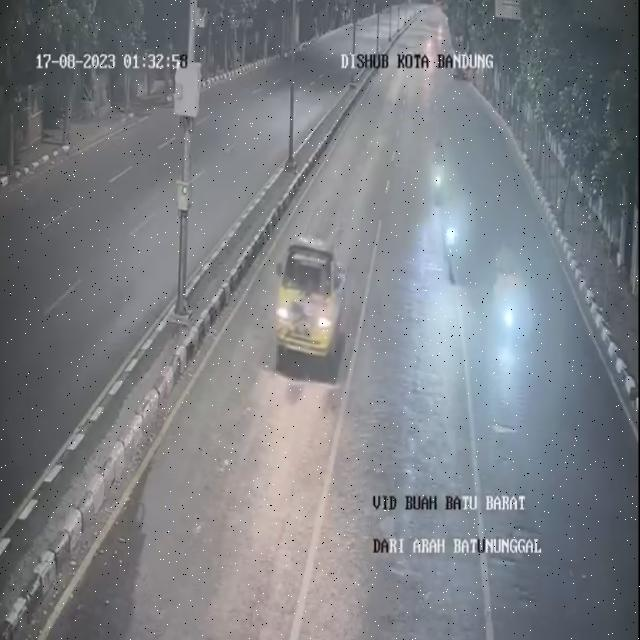motorcycle: (493, 244, 529, 393), (443, 198, 456, 280), (433, 138, 444, 200)
truck: (276, 236, 345, 374)
